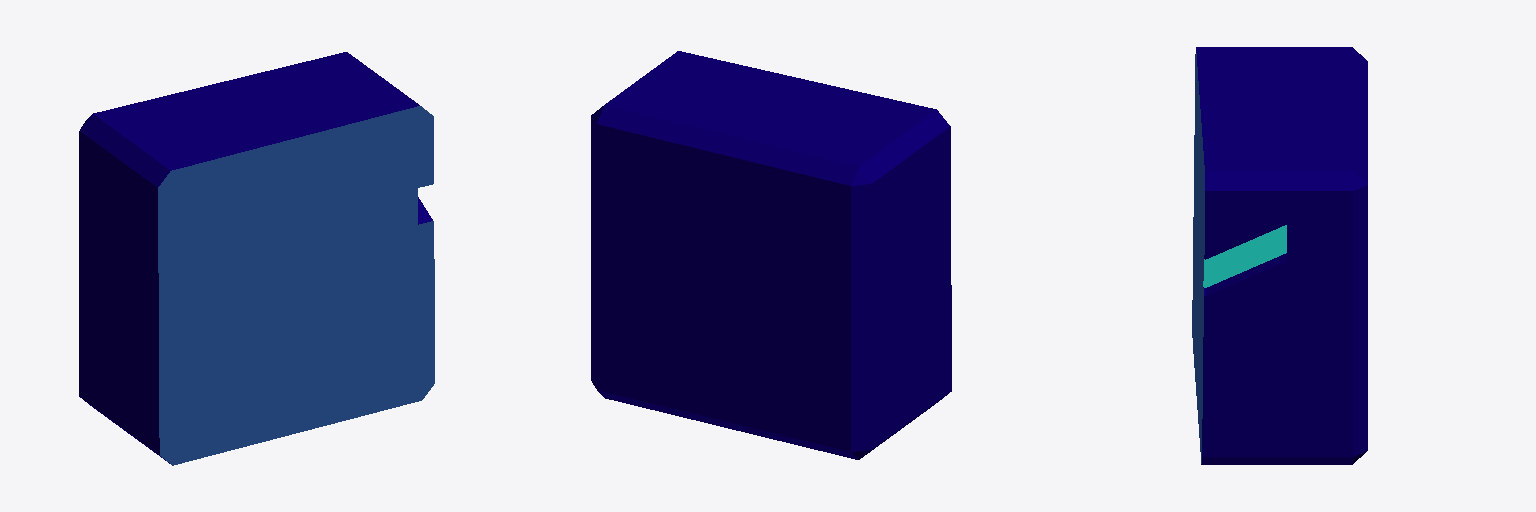
The model's file is BoxUpHalf.obj.
3 renders of one model, left to right at view 1: azimuth 30°, elevation 25°; view 2: azimuth 150°, elevation 25°; view 3: azimuth 270°, elevation 25°, orthographic.
Visible parts, largest first — view 1: Cube.001; view 2: Cube.001; view 3: Cube.001.
Part boxes in pixels (left/top/right/bottom): Cube.001: left=79, top=52, right=434, bottom=465; Cube.001: left=591, top=51, right=951, bottom=459; Cube.001: left=1192, top=47, right=1367, bottom=464.
Bounding box in the file's own units: 2 × 2 × 1.08.